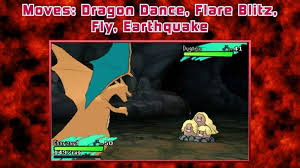charizard: (50, 41, 136, 160)
